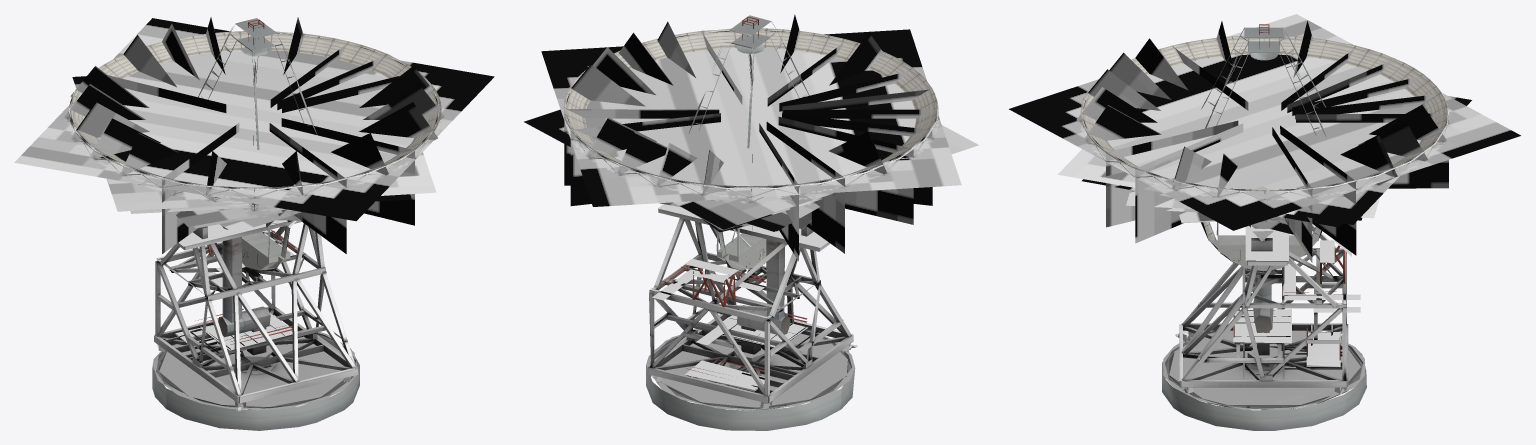
3 views of the same model, side by side, from view 1: azimuth 30°, elevation 25°; view 2: azimuth 150°, elevation 25°; view 3: azimuth 270°, elevation 25° (orthographic).
Parts seen in each view (by area): view 1: truss_dish, New Base, base, dish, quad, EW Symmetric.001; view 2: truss_dish, New Base, base, dish, quad, EW Symmetric.001; view 3: truss_dish, New Base, base, dish, quad, EW Symmetric.001.
Boxes of the visible parts, x1,y1,x2,y2 form: truss_dish: (14, 17, 494, 253); New Base: (154, 220, 358, 412); base: (152, 325, 359, 430); dish: (70, 31, 441, 188); quad: (198, 18, 317, 149); EW Symmetric.001: (242, 220, 296, 271); truss_dish: (524, 14, 978, 261); New Base: (648, 204, 857, 408); base: (646, 325, 855, 430); dish: (563, 28, 937, 187); quad: (688, 15, 809, 148); EW Symmetric.001: (716, 227, 766, 270); truss_dish: (1009, 14, 1520, 262); New Base: (1175, 224, 1360, 394); base: (1162, 330, 1366, 430); dish: (1080, 35, 1447, 191); quad: (1201, 24, 1326, 137); EW Symmetric.001: (1201, 222, 1322, 271).
Bounding box in the file's own units: 47.3 × 36.69 × 47.3.
9 materials, 7 textured.
